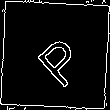P_NW: (24, 23, 86, 87)
